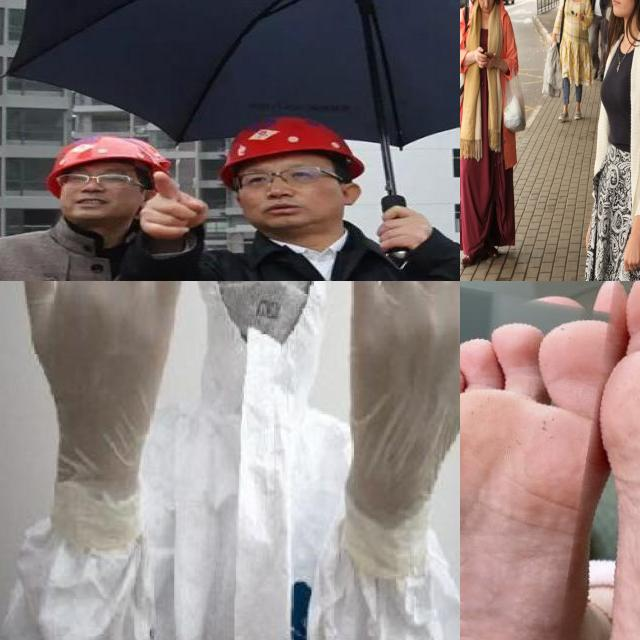Barefoots: (460, 281, 629, 640), (549, 281, 640, 640)
face_nomask: (209, 281, 322, 371), (242, 168, 328, 224), (59, 168, 131, 214)
glasses: (235, 163, 326, 194), (53, 171, 136, 193)
hand_glove: (13, 281, 196, 491), (345, 281, 460, 497)
hand_noglove: (131, 168, 213, 246), (371, 205, 433, 256)
head_helmet: (220, 107, 363, 178), (47, 133, 176, 180)
person: (0, 281, 460, 640), (192, 120, 460, 281), (0, 127, 213, 281)
